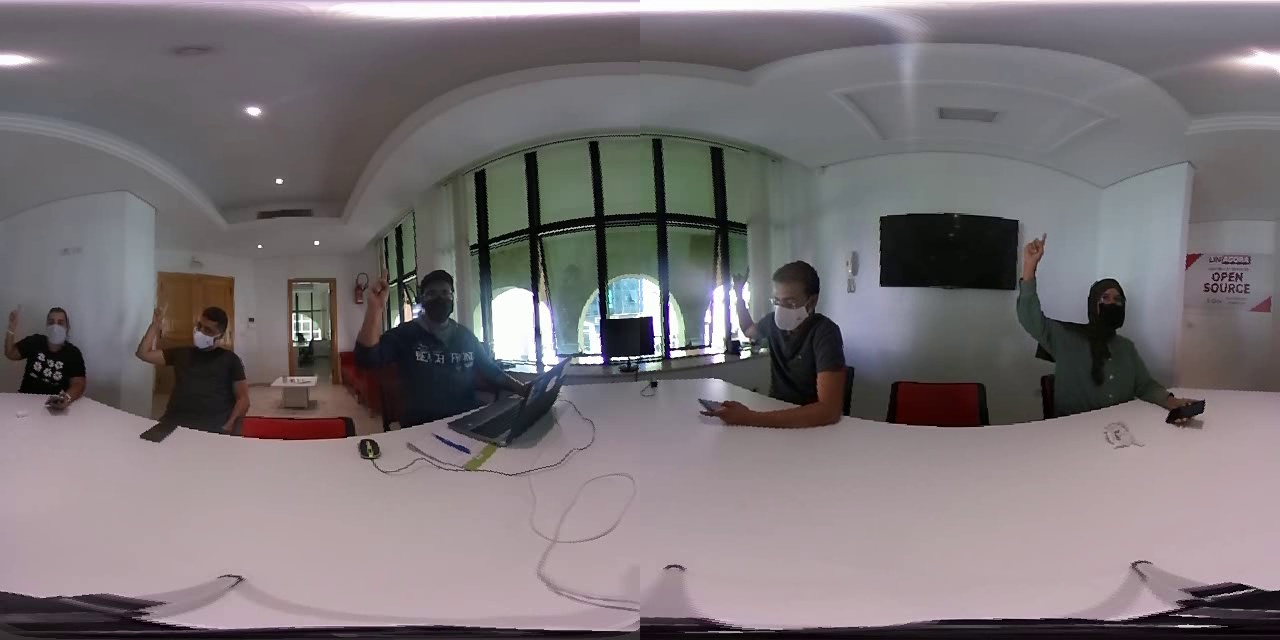person: (1008, 207, 1188, 437), (702, 223, 873, 449), (338, 241, 525, 428), (126, 262, 276, 440), (4, 268, 104, 422)
speaking: (1013, 218, 1062, 377), (346, 256, 397, 388), (716, 249, 759, 364), (128, 288, 174, 385), (2, 291, 32, 368)
